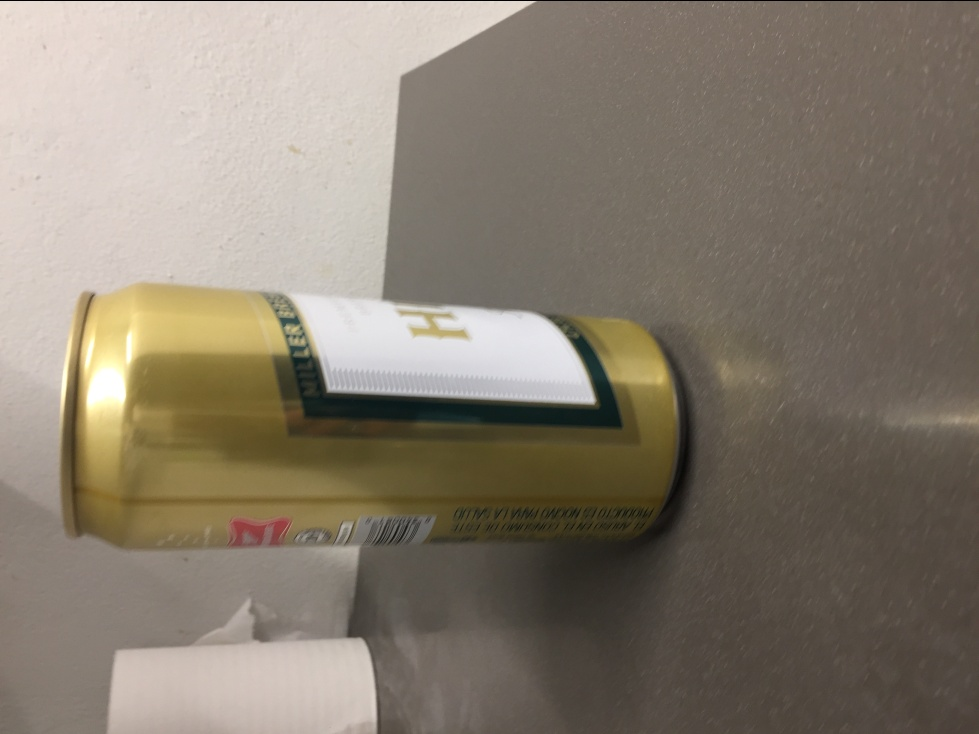miller: (57, 275, 695, 553)
